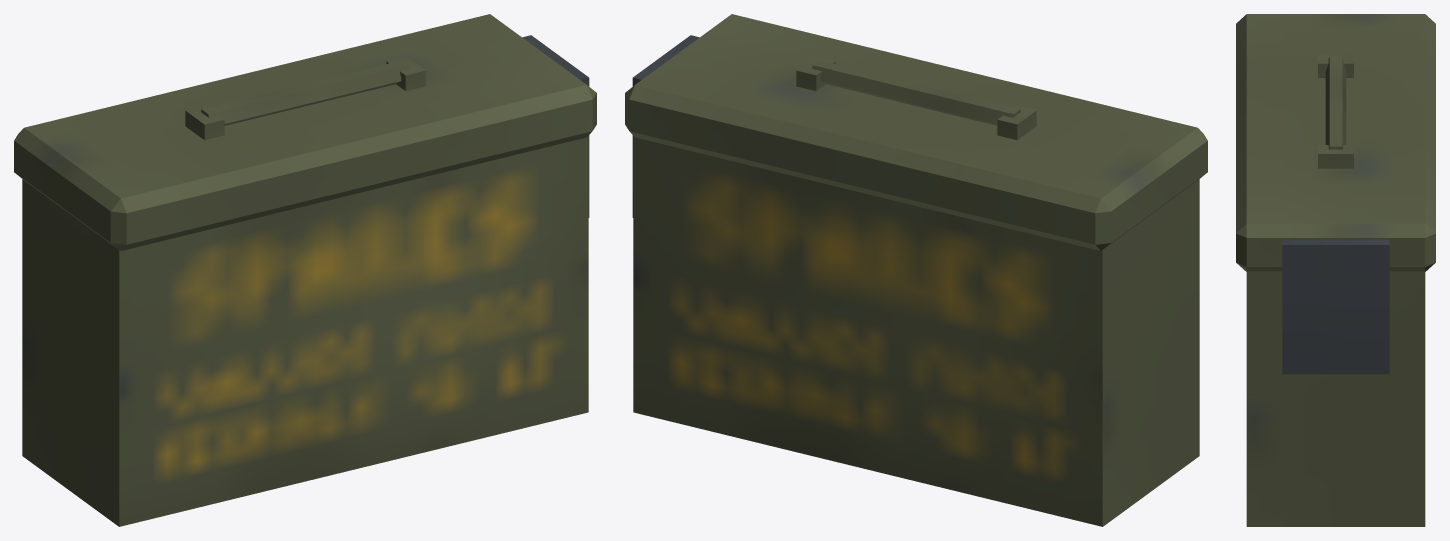
File: supply_can.fbx
3 views of the same model, side by side, from view 1: azimuth 30°, elevation 25°; view 2: azimuth 150°, elevation 25°; view 3: azimuth 270°, elevation 25° (orthographic). The views are drawn at different scales.
Parts seen in each view (by area): view 1: supply_can; view 2: supply_can; view 3: supply_can.
Boxes of the visible parts, x1=… form: supply_can: x1=14, y1=14, x2=596, y2=526; supply_can: x1=625, y1=14, x2=1207, y2=526; supply_can: x1=1236, y1=14, x2=1435, y2=526.
Size of the model in its own units: 0.297 by 0.1979 by 0.112.
1 material, 1 textured.
